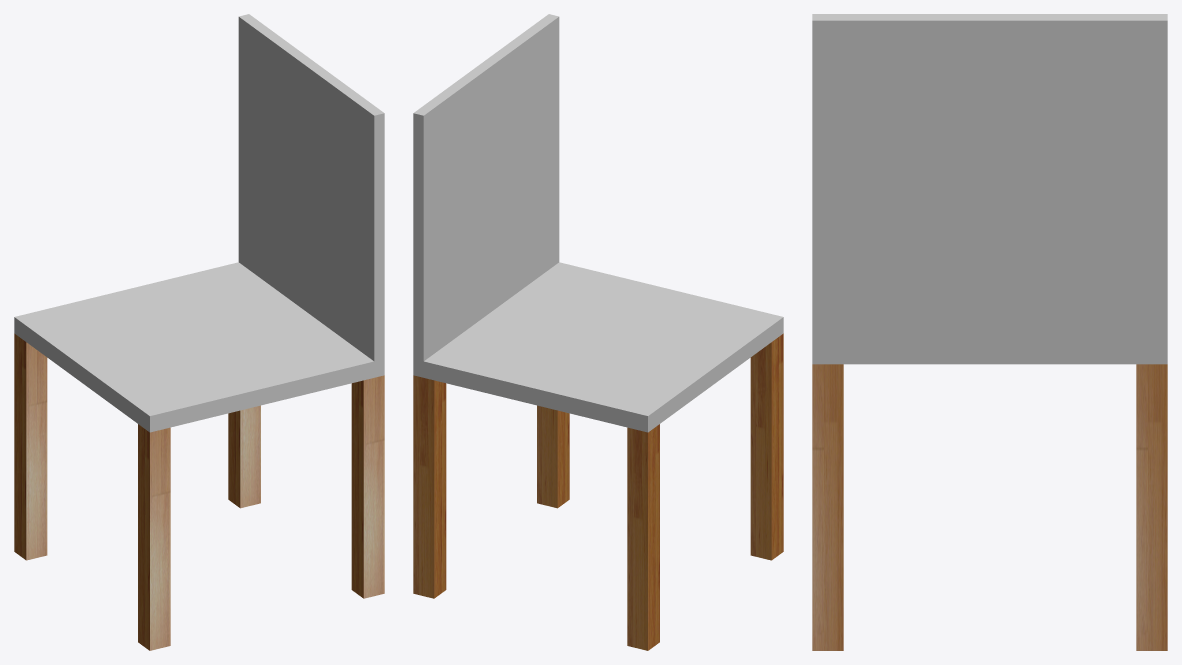
The picture shows the model from 3 angles, left to right: view 1: azimuth 30°, elevation 25°; view 2: azimuth 150°, elevation 25°; view 3: azimuth 270°, elevation 25°; orthographic projection. The views are drawn at different scales.
Visible parts, largest first — view 1: respaldo, silla, pata2, pata3, pata4, pata1; view 2: respaldo, silla, pata1, pata4, pata3, pata2; view 3: respaldo, pata2, pata1, silla.
Part boxes in pixels (x1,y1,x2,y2): respaldo: (238, 14, 384, 361); silla: (14, 262, 384, 432); pata2: (351, 375, 384, 598); pata3: (138, 424, 170, 650); pata4: (14, 333, 47, 560); pata1: (228, 405, 260, 508); respaldo: (413, 14, 559, 361); silla: (413, 262, 783, 432); pata1: (413, 375, 446, 598); pata4: (627, 424, 659, 650); pata3: (750, 333, 783, 560); pata2: (537, 405, 569, 508); respaldo: (812, 14, 1167, 342); pata2: (812, 364, 843, 650); pata1: (1136, 364, 1167, 650); silla: (812, 343, 1167, 364).
Size of the model in its own units: 0.45 by 0.45 by 0.88.
Materials: 1 (1 with a texture image).
